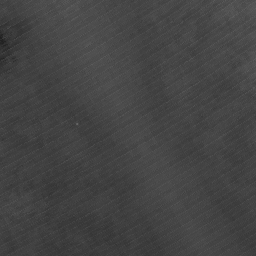Target: (72, 120, 81, 128)
